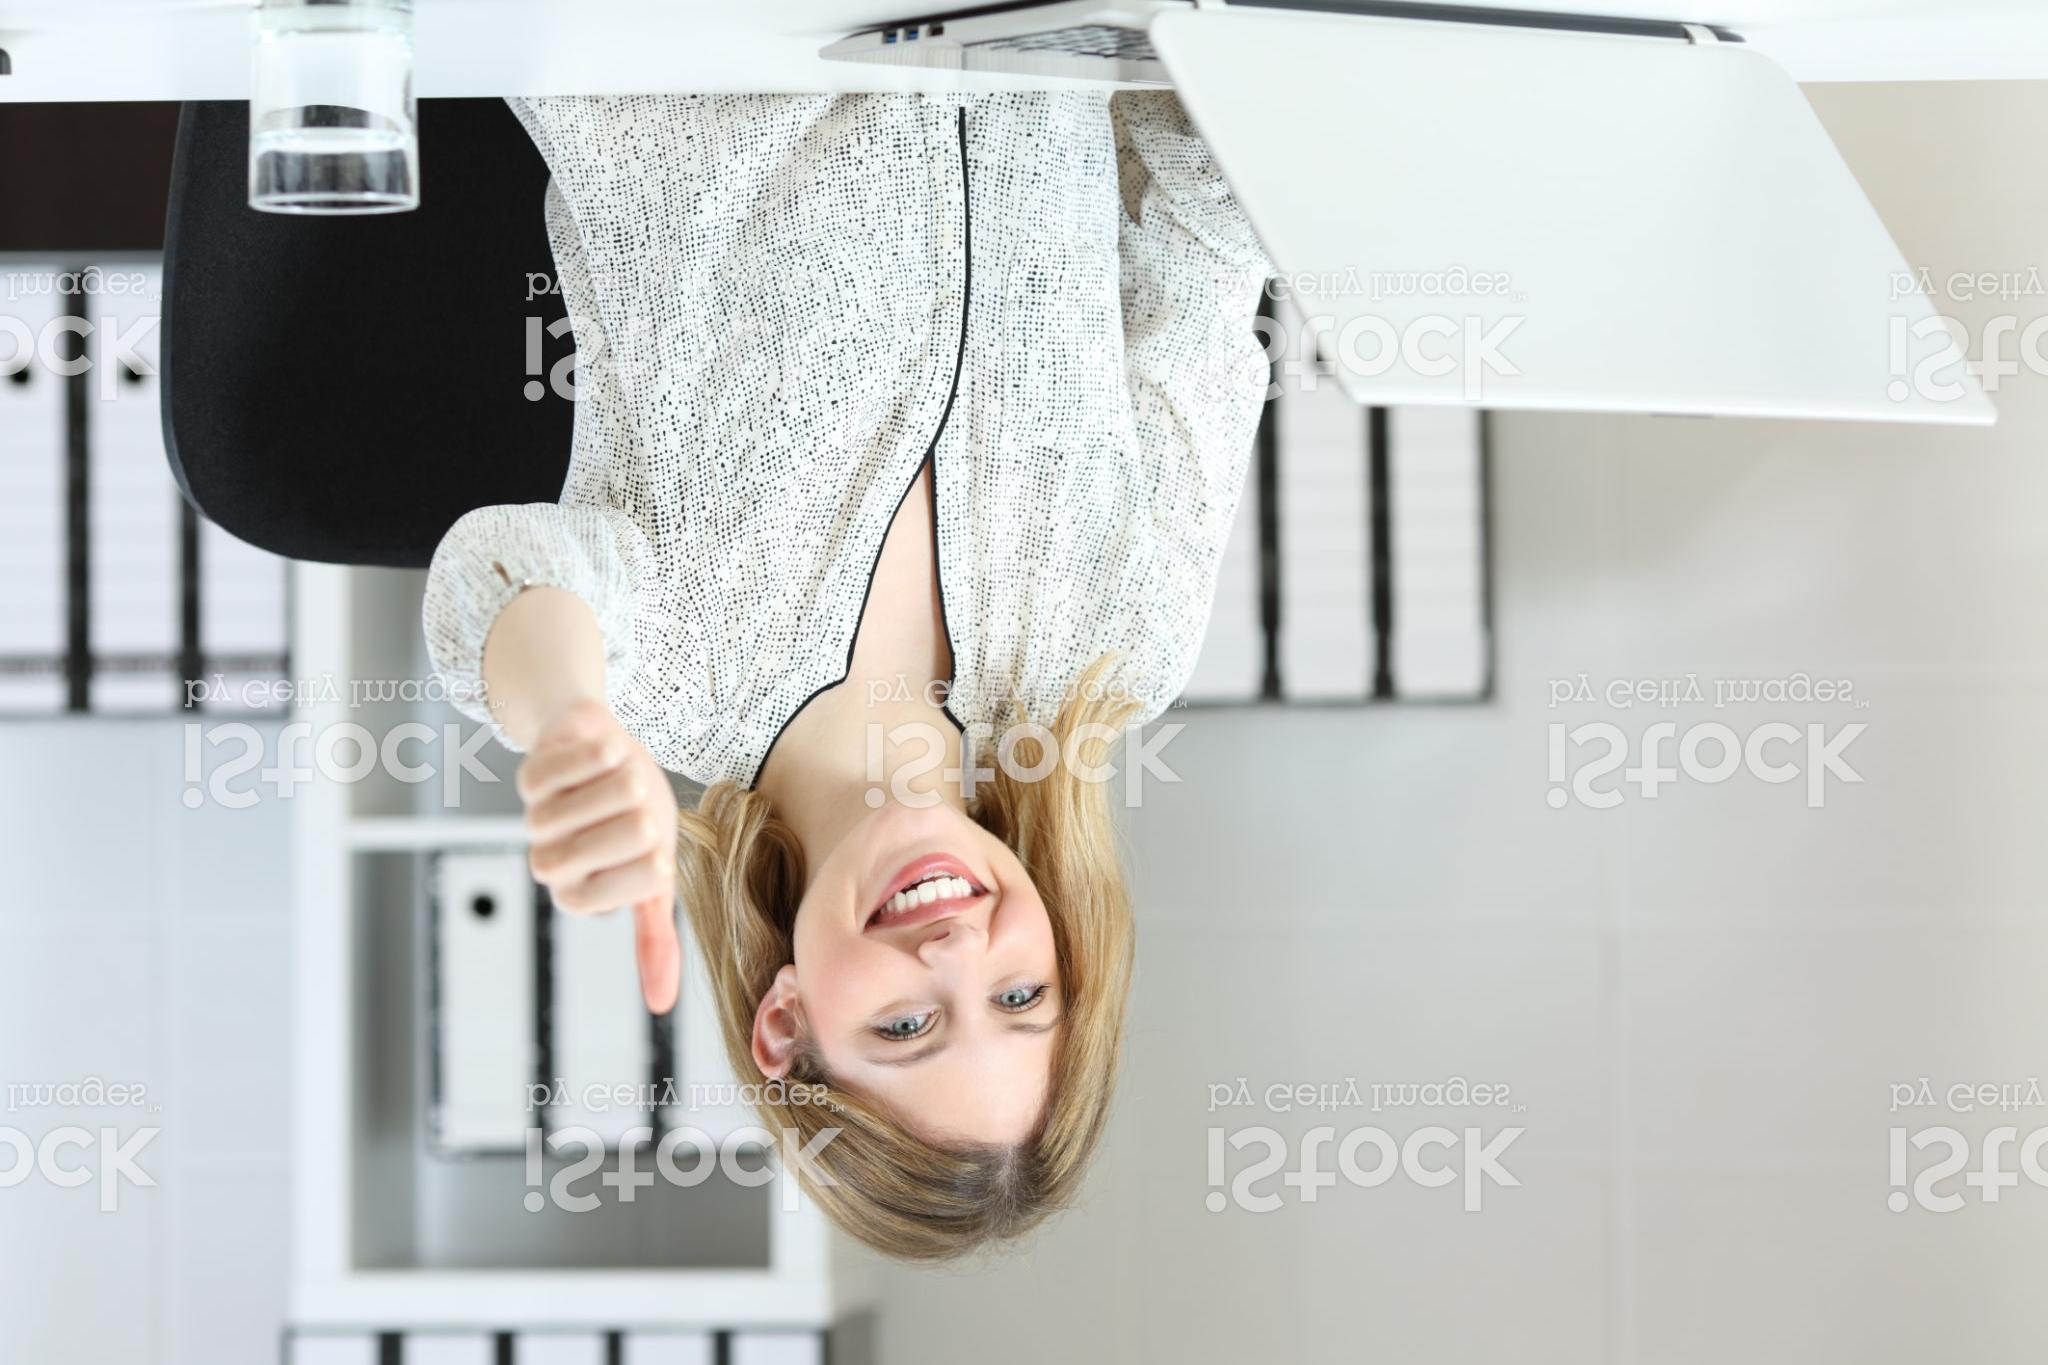thumbsdown: (512, 711, 687, 1018)
